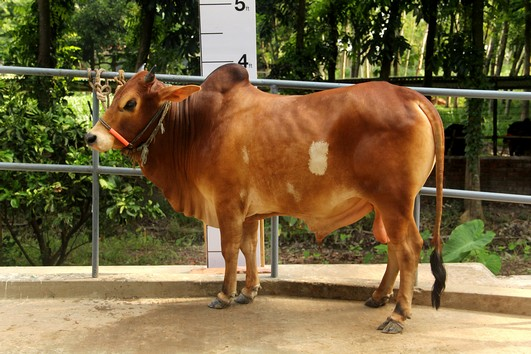cow: (81, 59, 455, 337)
